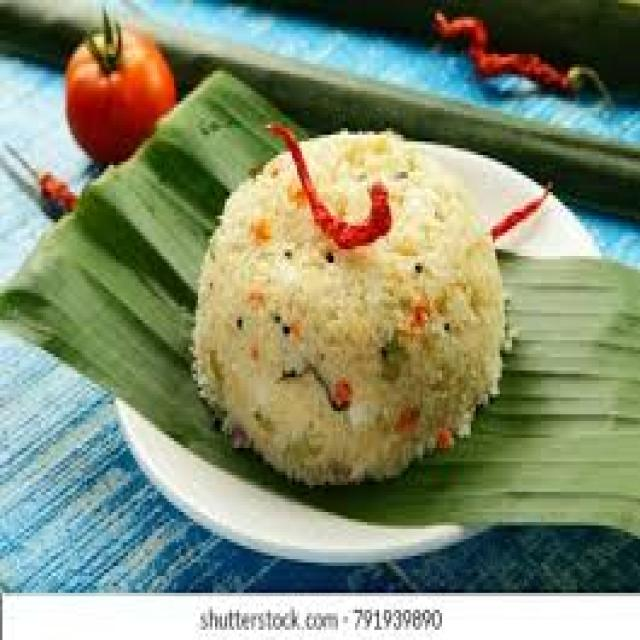UPMA: (193, 128, 502, 478)
